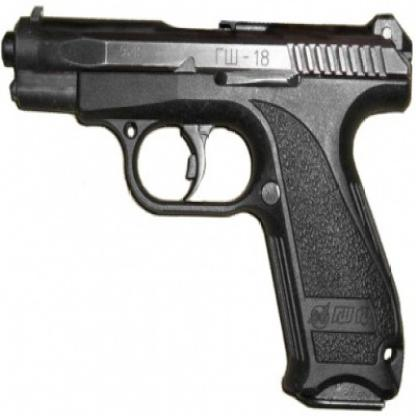Guns: (0, 1, 415, 415)
